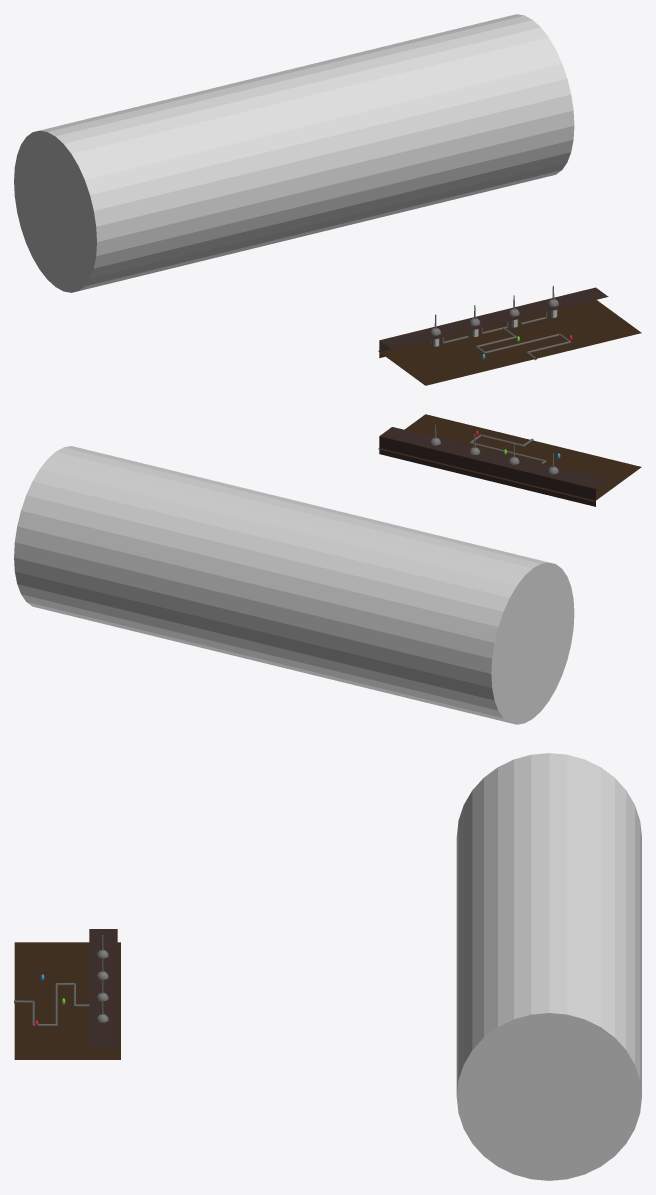
File: Scene_Sketch_01.fbx
The picture shows the model from 3 angles, top to bottom: view 1: azimuth 30°, elevation 25°; view 2: azimuth 150°, elevation 25°; view 3: azimuth 270°, elevation 25°; orthographic projection. The views are drawn at different scales.
Visible parts, largest first — view 1: Cylinder.004, Plane, Plane.001, BezierCurve; view 2: Cylinder.004, Plane.001, Plane; view 3: Cylinder.004, Plane, Plane.001.
Part boxes in pixels (bbox=[...]): Cylinder.004: bbox=[14, 14, 574, 292]; Plane: bbox=[378, 300, 641, 385]; Plane.001: bbox=[379, 287, 608, 357]; BezierCurve: bbox=[475, 321, 571, 360]; Cylinder.004: bbox=[14, 446, 574, 724]; Plane.001: bbox=[379, 427, 608, 506]; Plane: bbox=[378, 414, 641, 501]; Cylinder.004: bbox=[456, 753, 641, 1180]; Plane: bbox=[14, 942, 120, 1059]; Plane.001: bbox=[89, 929, 117, 1046].
Size of the model in its own units: 13371 by 4028 by 13653.
